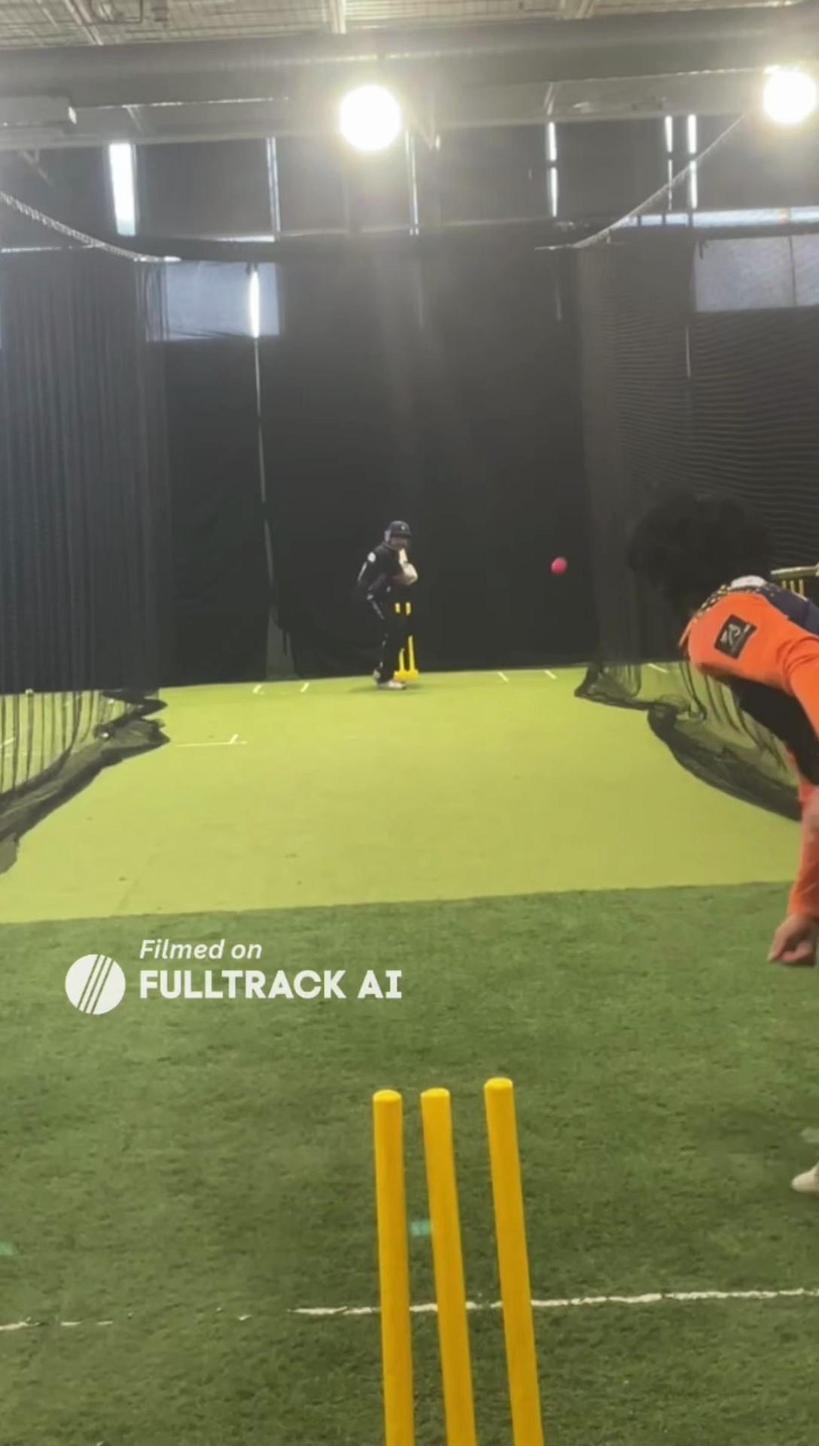ball: (548, 554, 568, 574)
